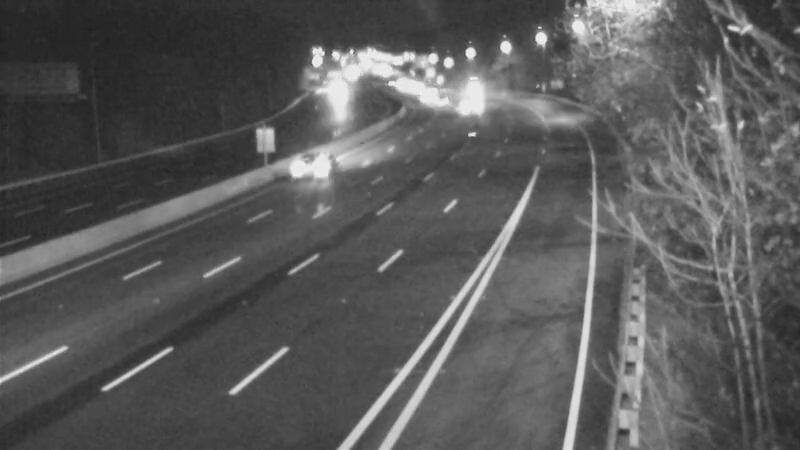vehicle: (274, 123, 354, 203), (449, 62, 499, 112), (401, 71, 451, 121), (413, 74, 463, 124)
